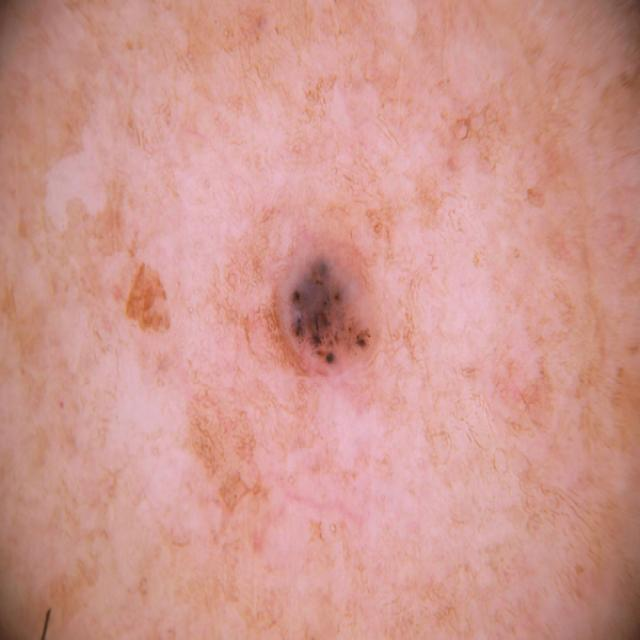Skin-Cancer Basal cell carcinoma: (28, 56, 605, 627)
